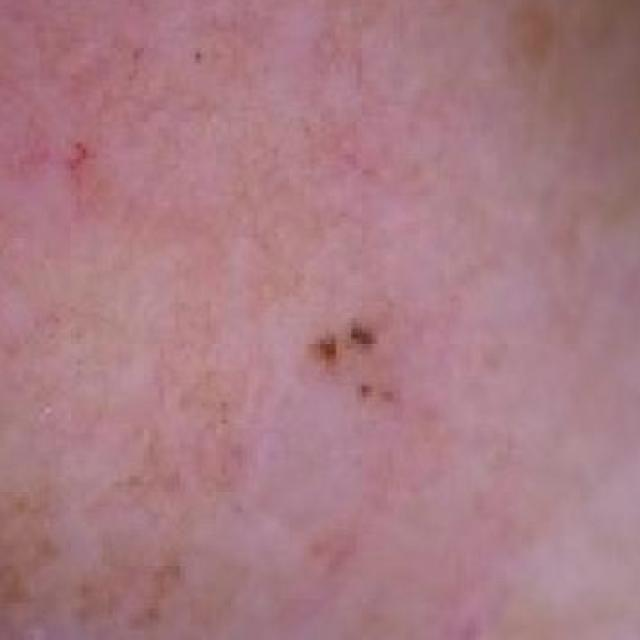BCC: (0, 0, 611, 525)
